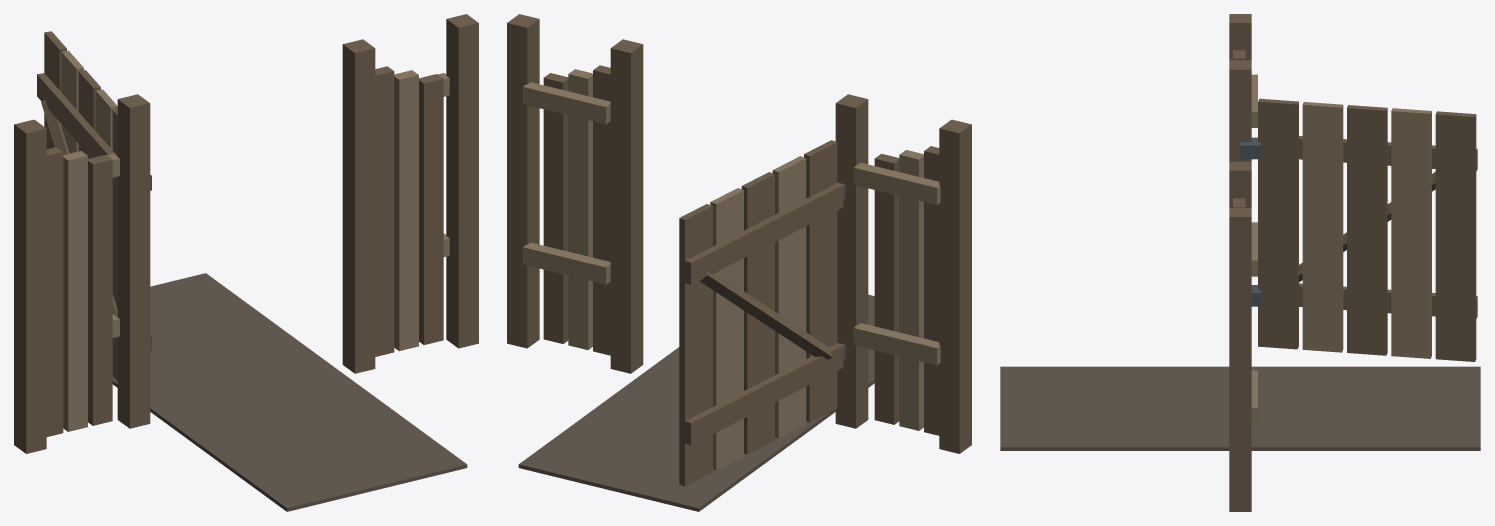
The model's file is gap_gate.glb.
3 views of the same model, side by side, from view 1: azimuth 30°, elevation 25°; view 2: azimuth 150°, elevation 25°; view 3: azimuth 270°, elevation 25° (orthographic). The views are drawn at different scales.
Parts seen in each view (by area): view 1: gap_gate; view 2: gap_gate; view 3: gap_gate.
Part boxes in pixels (left/top/right/bottom): gap_gate: left=14, top=14, right=478, bottom=511; gap_gate: left=507, top=14, right=971, bottom=511; gap_gate: left=1000, top=14, right=1480, bottom=511.
Bounding box in the file's own units: 1.92 × 1.3 × 1.92.
